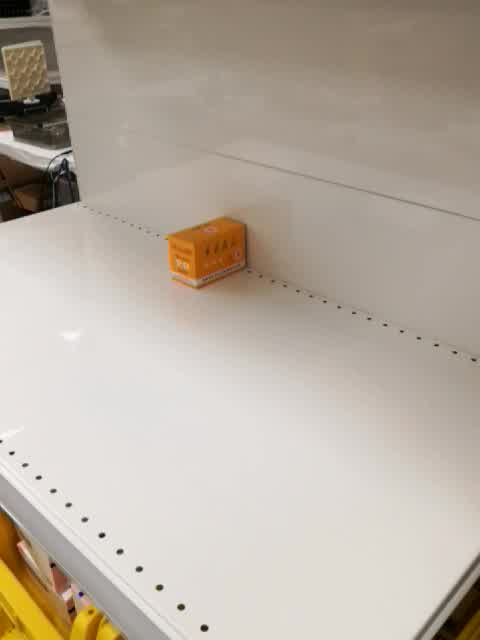jasminetea: (166, 217, 248, 290)
